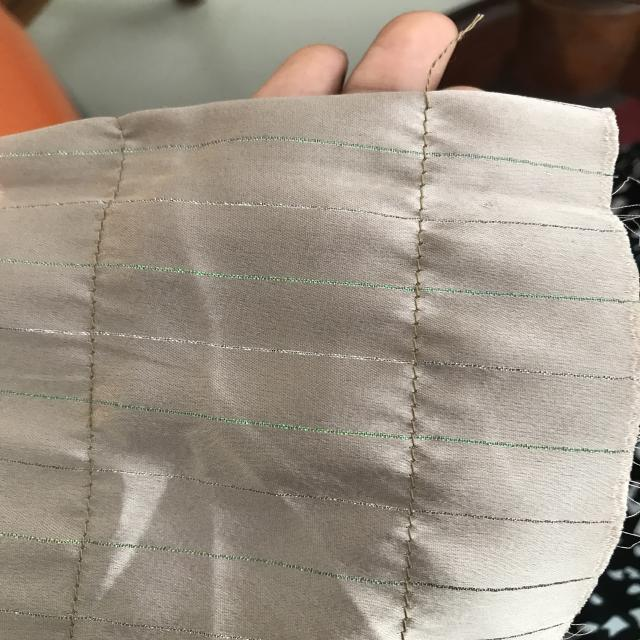good: (378, 526, 430, 574), (396, 368, 431, 423), (392, 448, 429, 499), (414, 155, 444, 216)
